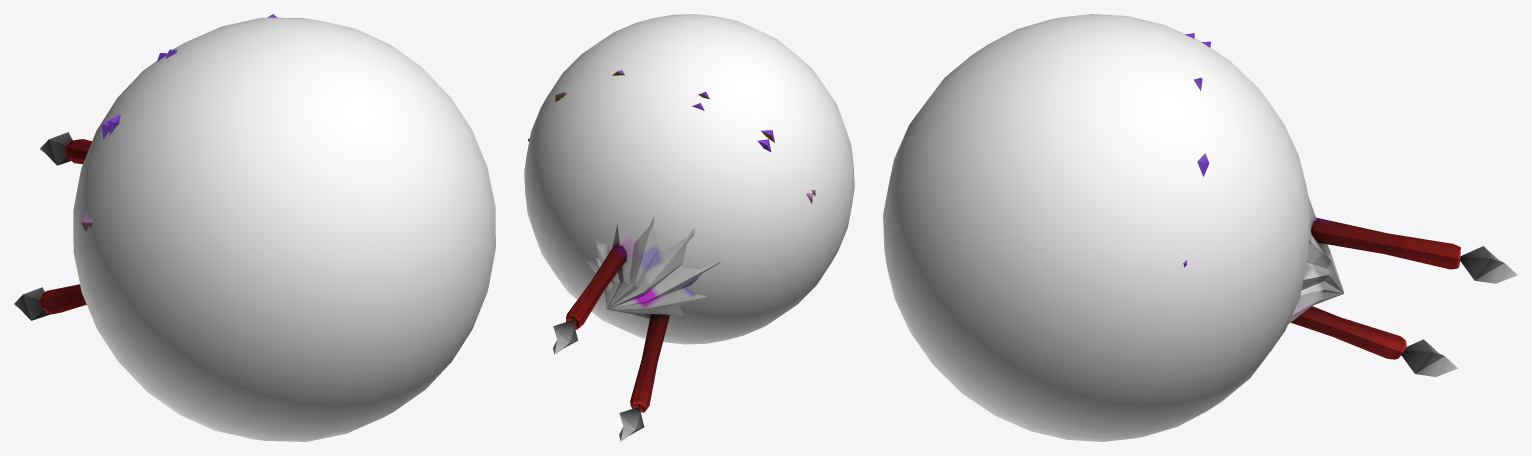
The model's file is 2ndAnniversaryCupcakeAnchor.fbx.
3 renders of one model, left to right at view 1: azimuth 30°, elevation 25°; view 2: azimuth 150°, elevation 25°; view 3: azimuth 270°, elevation 25°, orthographic. The views are drawn at different scales.
Visible parts, largest first — view 1: CupcakeInteractionPoint, Cupcake, CandleFlame_Prefab, CandleFlame_Prefab__1_; view 2: CupcakeInteractionPoint, Cupcake, CandleFlame_Prefab, CandleFlame_Prefab__1_; view 3: CupcakeInteractionPoint, Cupcake, CandleFlame_Prefab__1_, CandleFlame_Prefab.
Part boxes in pixels (bbox=[...]): CupcakeInteractionPoint: bbox=[73, 17, 495, 441]; Cupcake: bbox=[39, 53, 167, 320]; CandleFlame_Prefab: bbox=[14, 287, 50, 320]; CandleFlame_Prefab__1_: bbox=[40, 132, 72, 165]; CupcakeInteractionPoint: bbox=[524, 14, 854, 344]; Cupcake: bbox=[566, 103, 822, 412]; CandleFlame_Prefab: bbox=[619, 407, 644, 441]; CandleFlame_Prefab__1_: bbox=[553, 321, 577, 354]; CupcakeInteractionPoint: bbox=[883, 14, 1310, 441]; Cupcake: bbox=[1202, 41, 1460, 359]; CandleFlame_Prefab__1_: bbox=[1460, 246, 1517, 283]; CandleFlame_Prefab: bbox=[1401, 339, 1457, 376].
Bounding box in the file's own units: 14.92 × 14.93 × 22.18.
